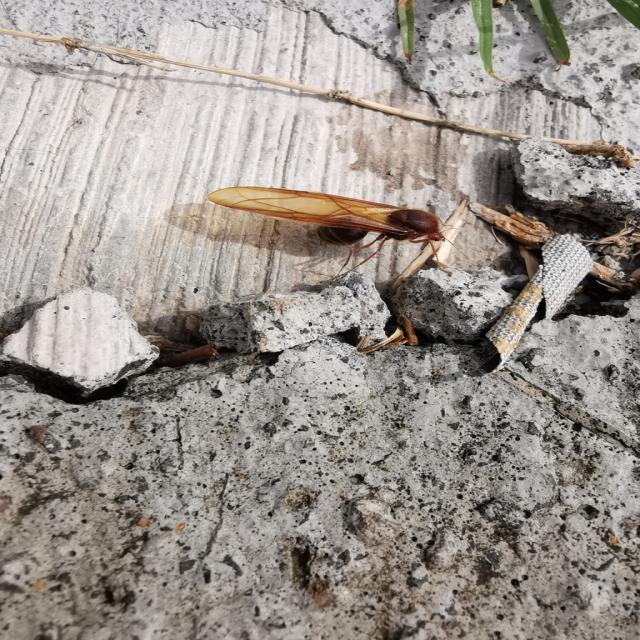Alive-Male-Alate: (206, 186, 470, 283)
